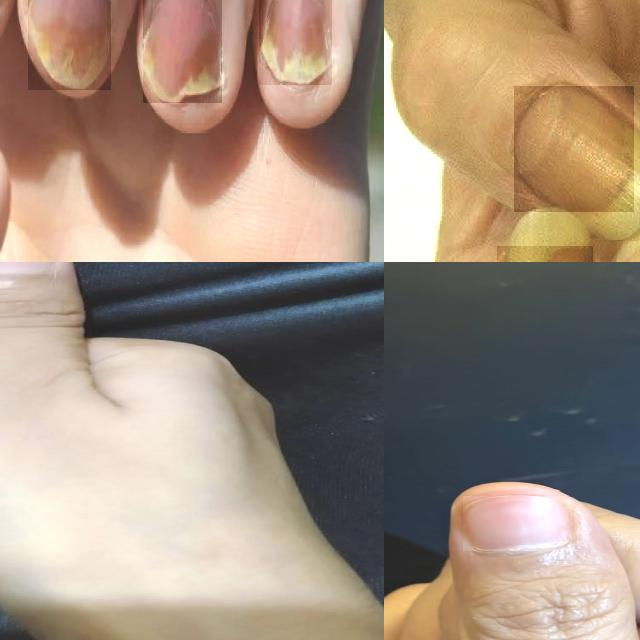diabetes: (144, 0, 222, 103), (29, 0, 111, 90), (260, 0, 332, 85)
sehat: (515, 87, 634, 212), (464, 496, 572, 551)
